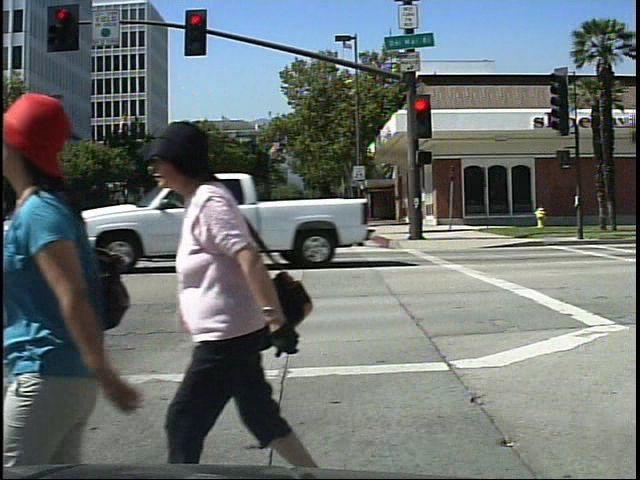person: (152, 108, 334, 471), (12, 81, 157, 470)
